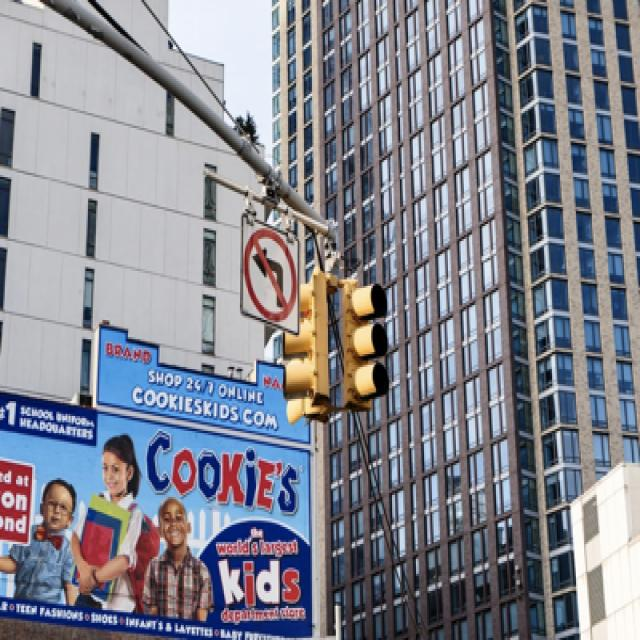trafficlight: (276, 269, 326, 418), (339, 271, 387, 416)
